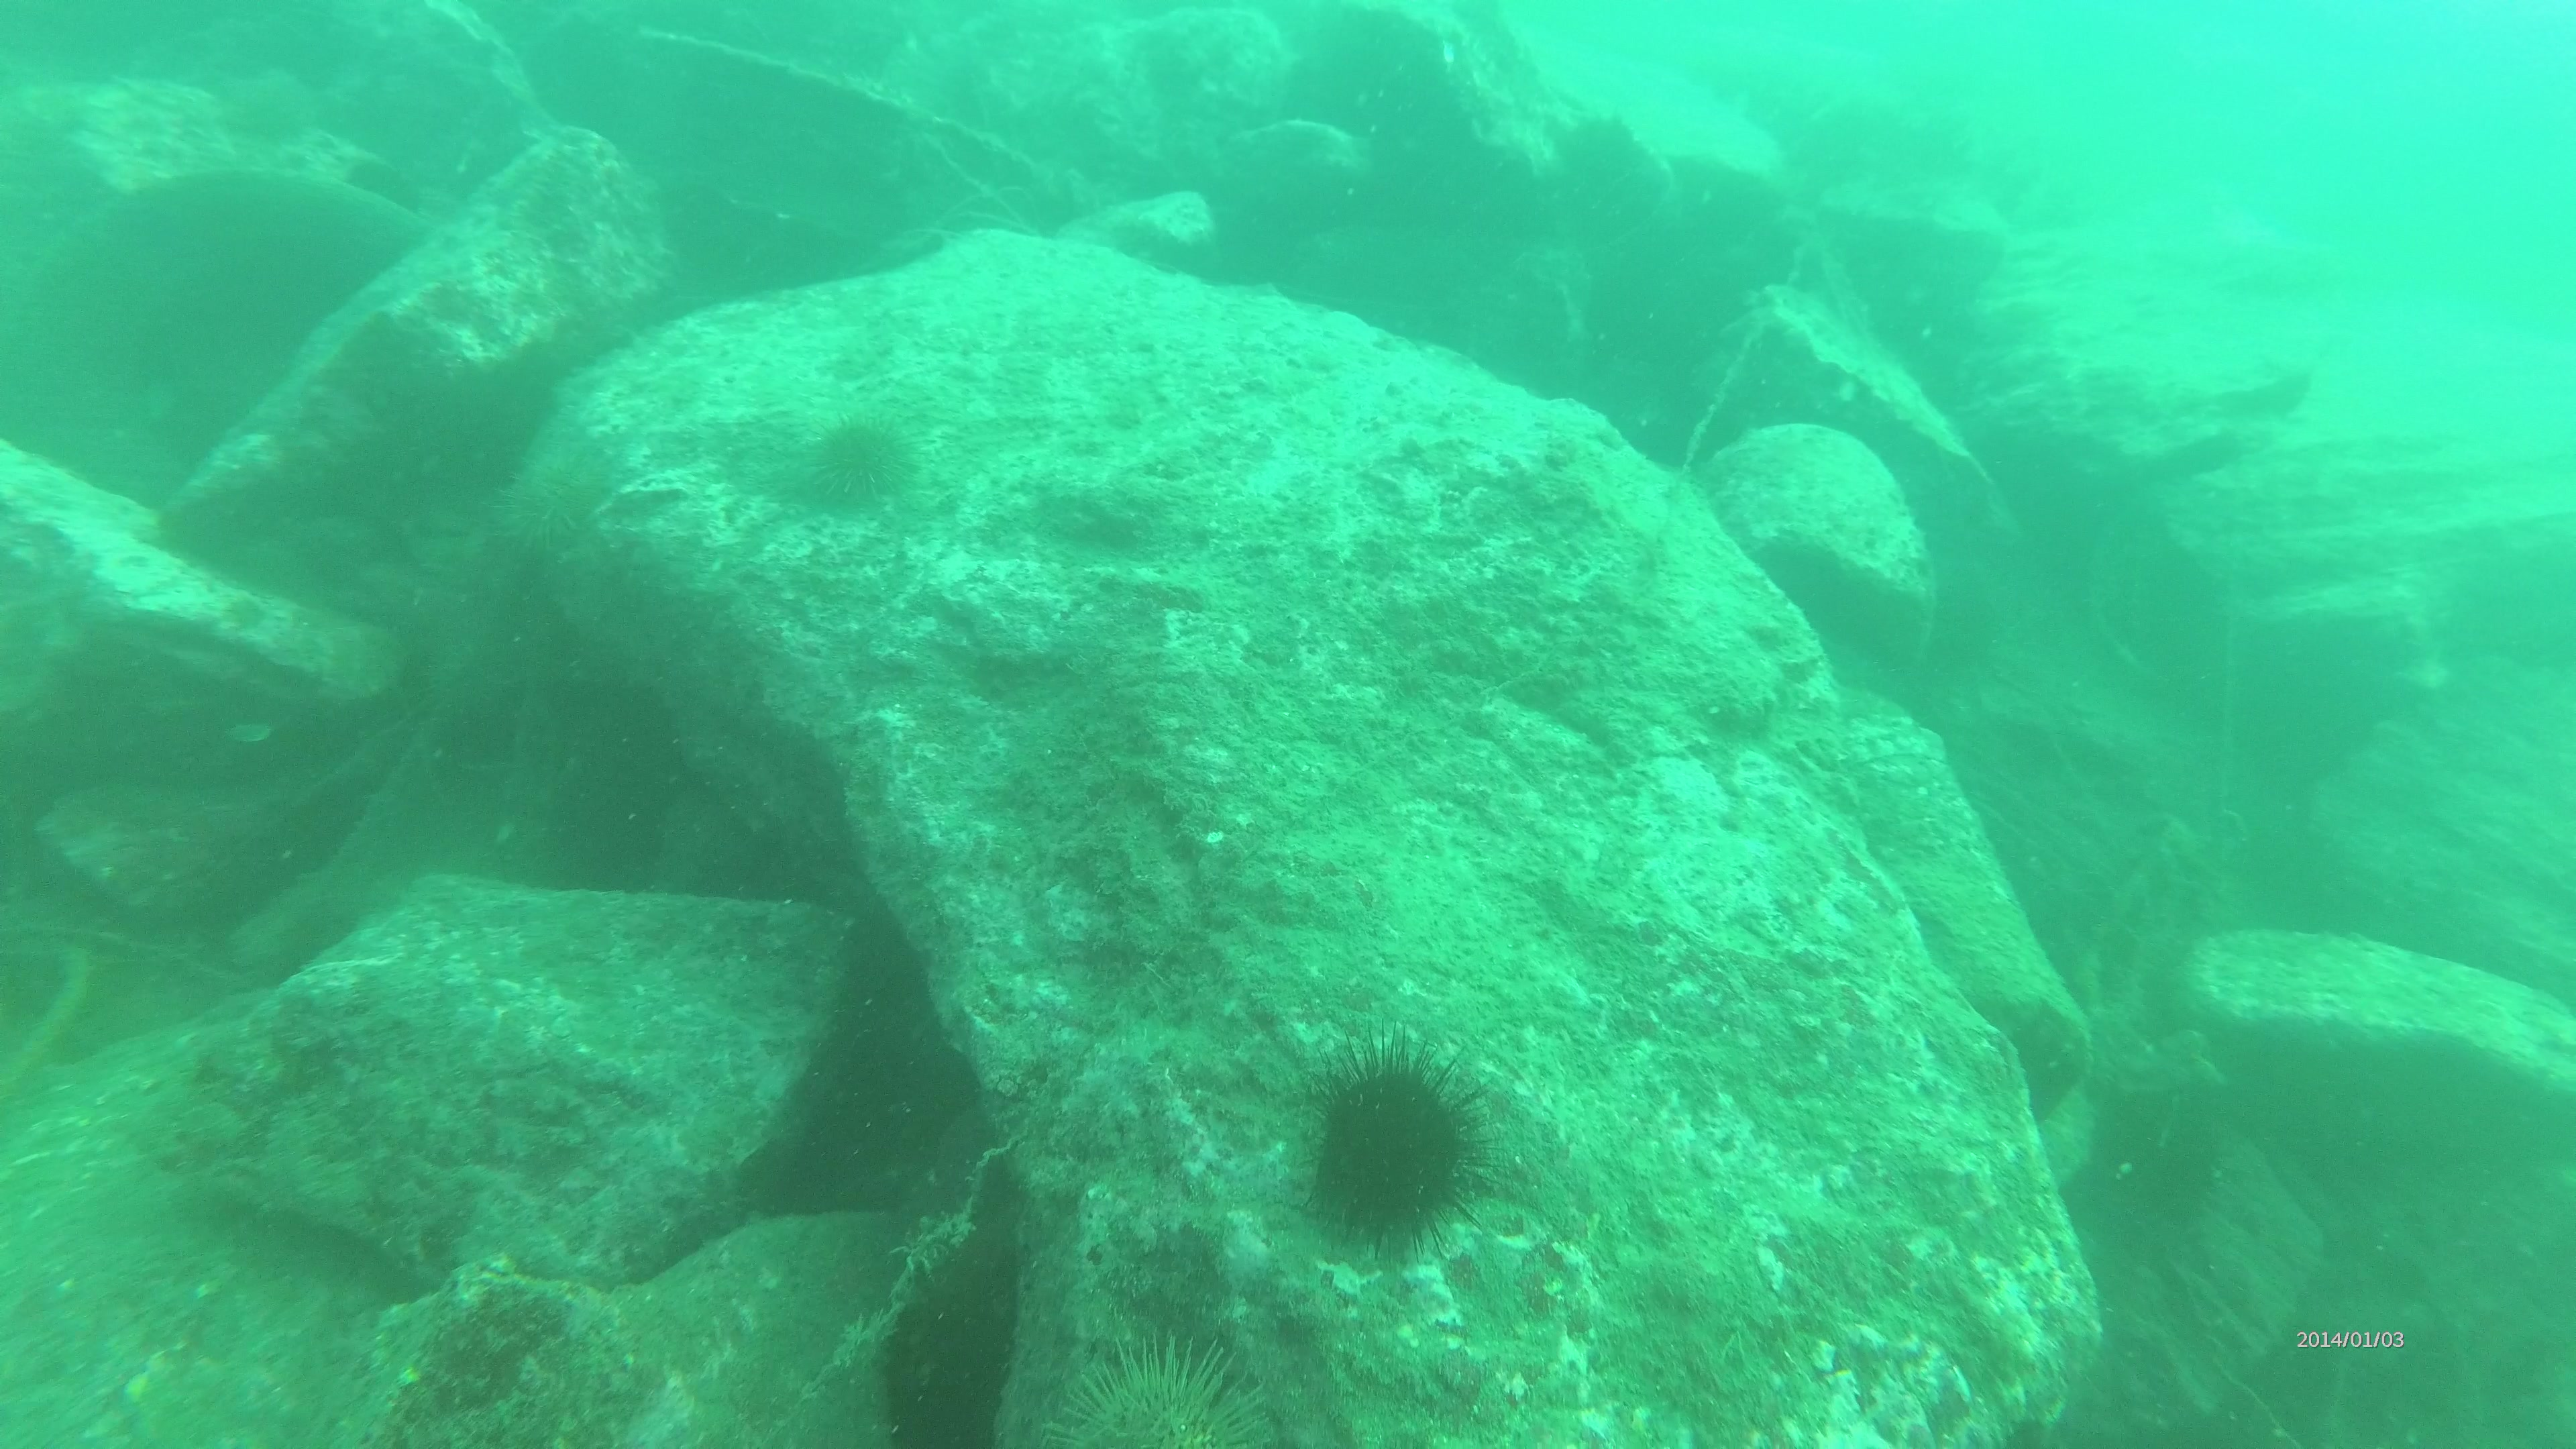echinus: (1283, 1023, 1502, 1263), (1044, 1332, 1292, 1449), (807, 409, 936, 508), (487, 453, 609, 548)
